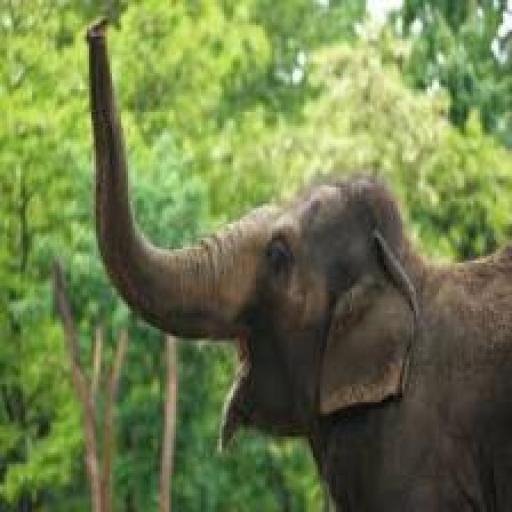Elephant: (66, 13, 510, 512)
